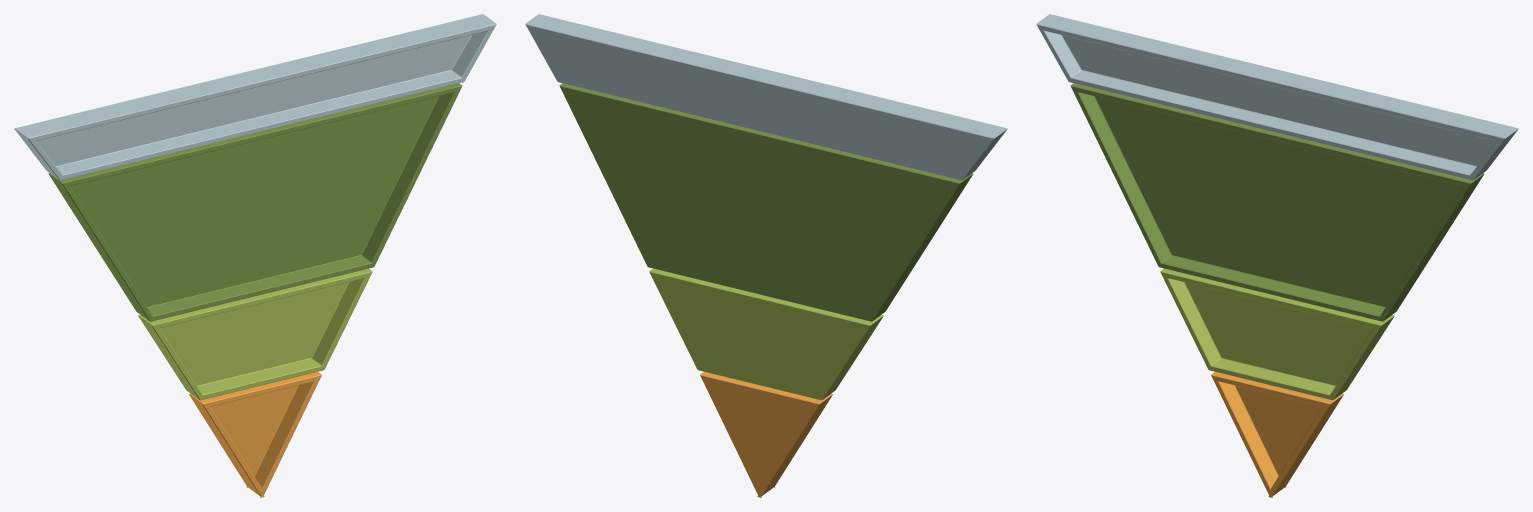
File: Food triangle.fbx
The picture shows the model from 3 angles, left to right: view 1: azimuth 30°, elevation 25°; view 2: azimuth 150°, elevation 25°; view 3: azimuth 330°, elevation 25°; orthographic projection.
Parts seen in each view (by area): view 1: Pyramid middle top, Pyramid top, Pyramid middle bottom, Pyramid bottom; view 2: Pyramid middle top, Pyramid top, Pyramid middle bottom, Pyramid bottom; view 3: Pyramid middle top, Pyramid top, Pyramid middle bottom, Pyramid bottom.
Boxes of the visible parts, <box> form: Pyramid middle top: <box>48,83,462,321</box>; Pyramid top: <box>14,14,496,180</box>; Pyramid middle bottom: <box>138,30,488,400</box>; Pyramid bottom: <box>189,372,321,497</box>; Pyramid middle top: <box>559,83,973,321</box>; Pyramid top: <box>525,14,1007,180</box>; Pyramid middle bottom: <box>649,268,883,400</box>; Pyramid bottom: <box>700,372,832,497</box>; Pyramid middle top: <box>1070,83,1484,321</box>; Pyramid top: <box>1036,14,1518,180</box>; Pyramid middle bottom: <box>1160,141,1497,400</box>; Pyramid bottom: <box>1211,372,1343,497</box>.
Size of the model in its own units: 413 by 350 by 21.2.
